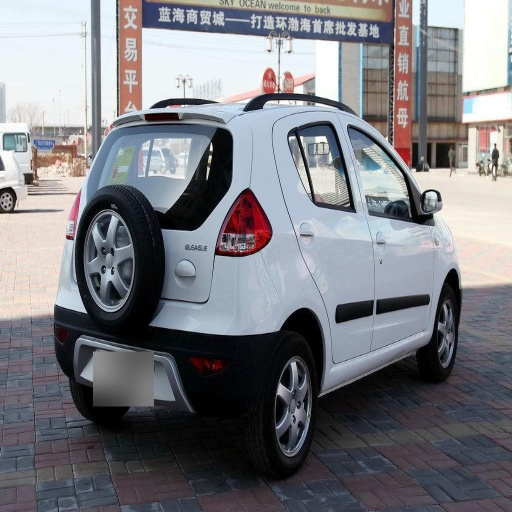back_bumper: (119, 253, 286, 418)
back_right_door: (286, 112, 372, 366)
trunk: (162, 201, 229, 301)
